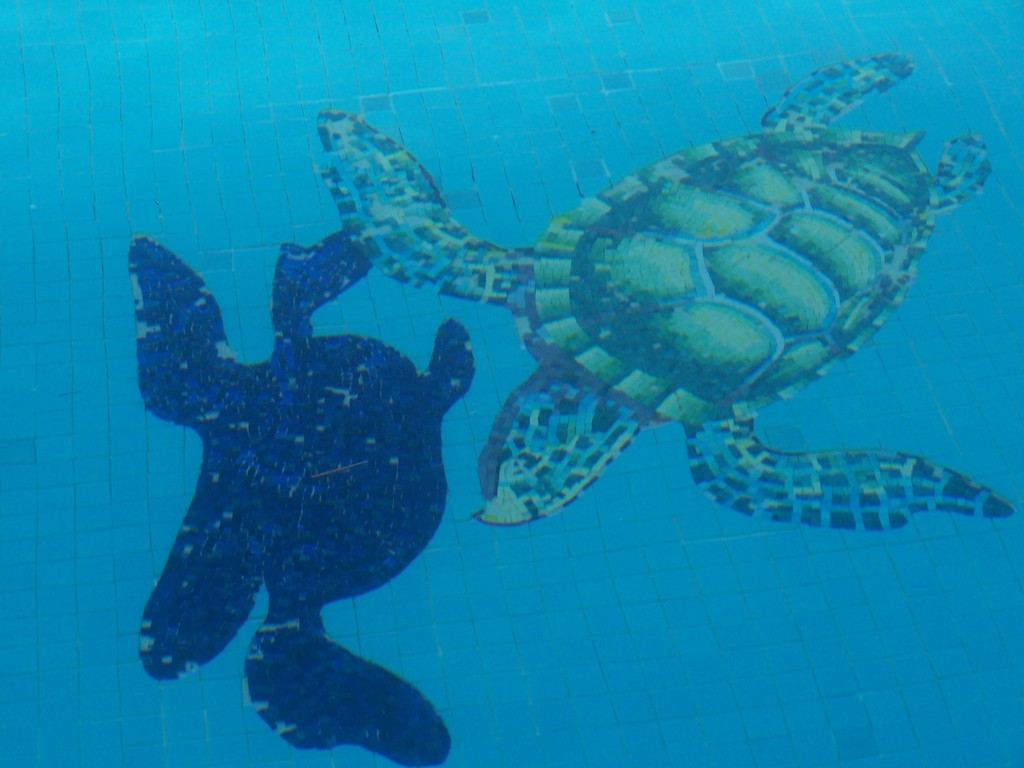Sea turtles: (292, 60, 1006, 581)
